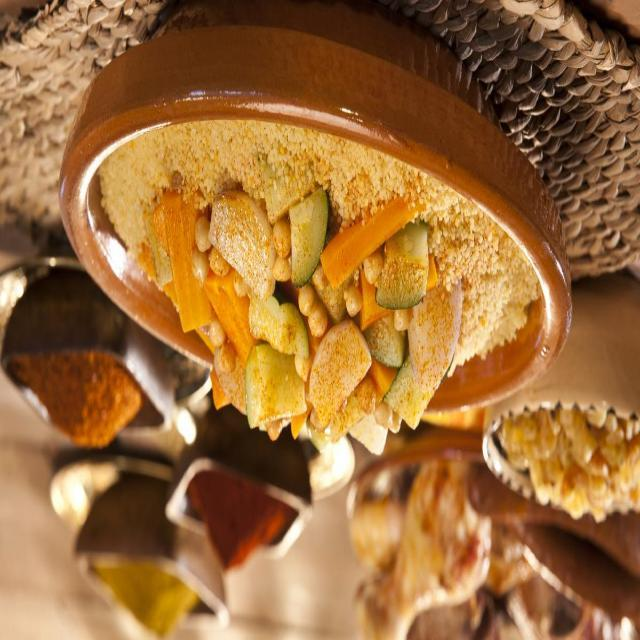Couscous: (95, 113, 541, 442)
